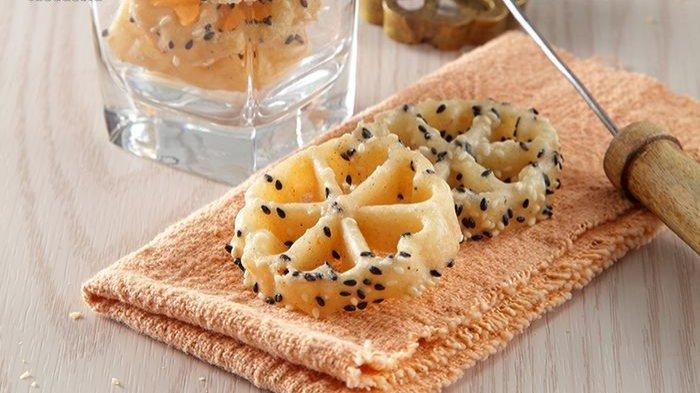kembang_goyang: (193, 118, 445, 312)
